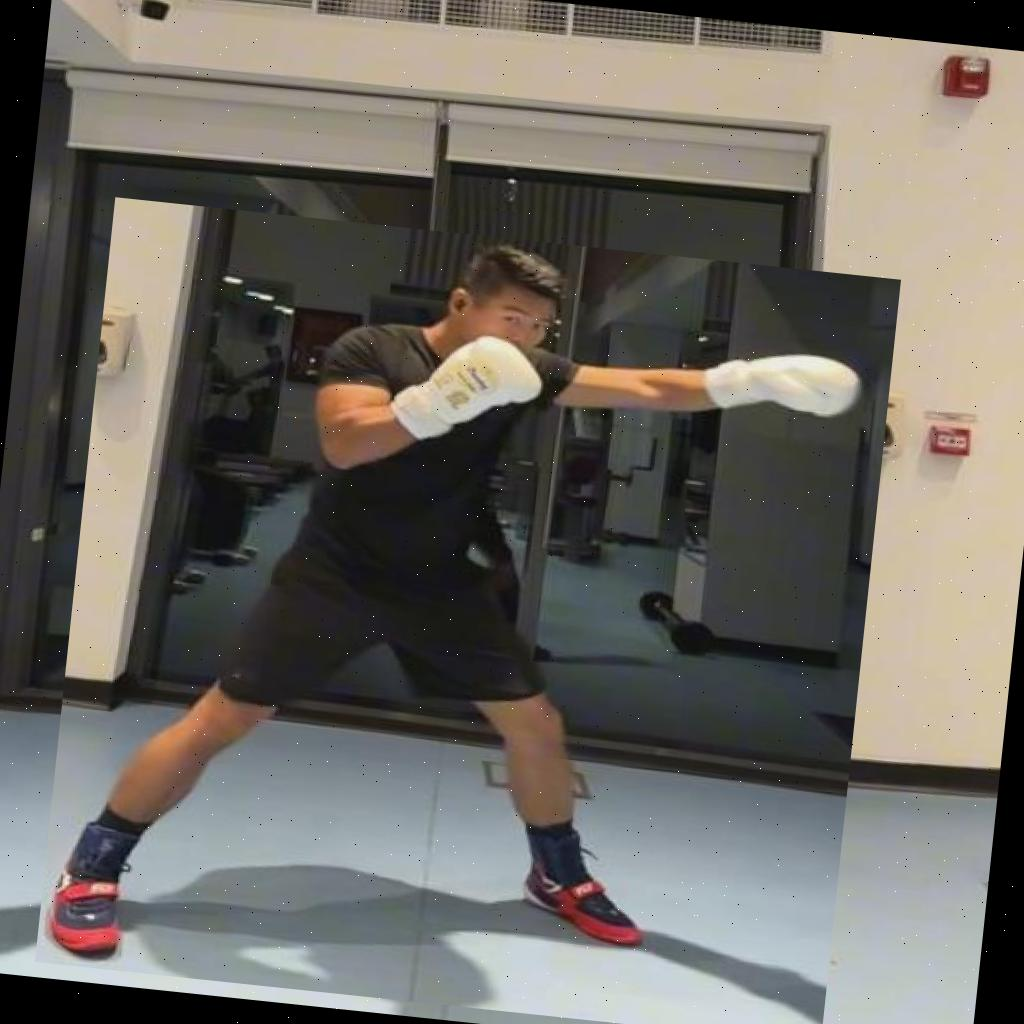jab: (34, 197, 901, 1024)
